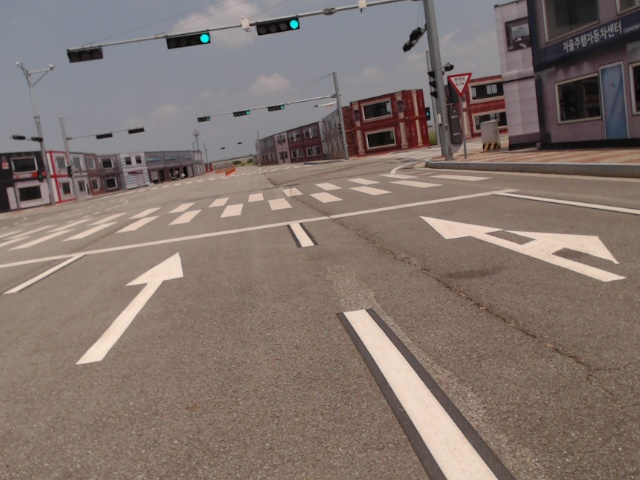straight_green_4: (167, 29, 213, 48), (257, 18, 301, 36), (232, 108, 251, 117), (268, 102, 285, 112)
